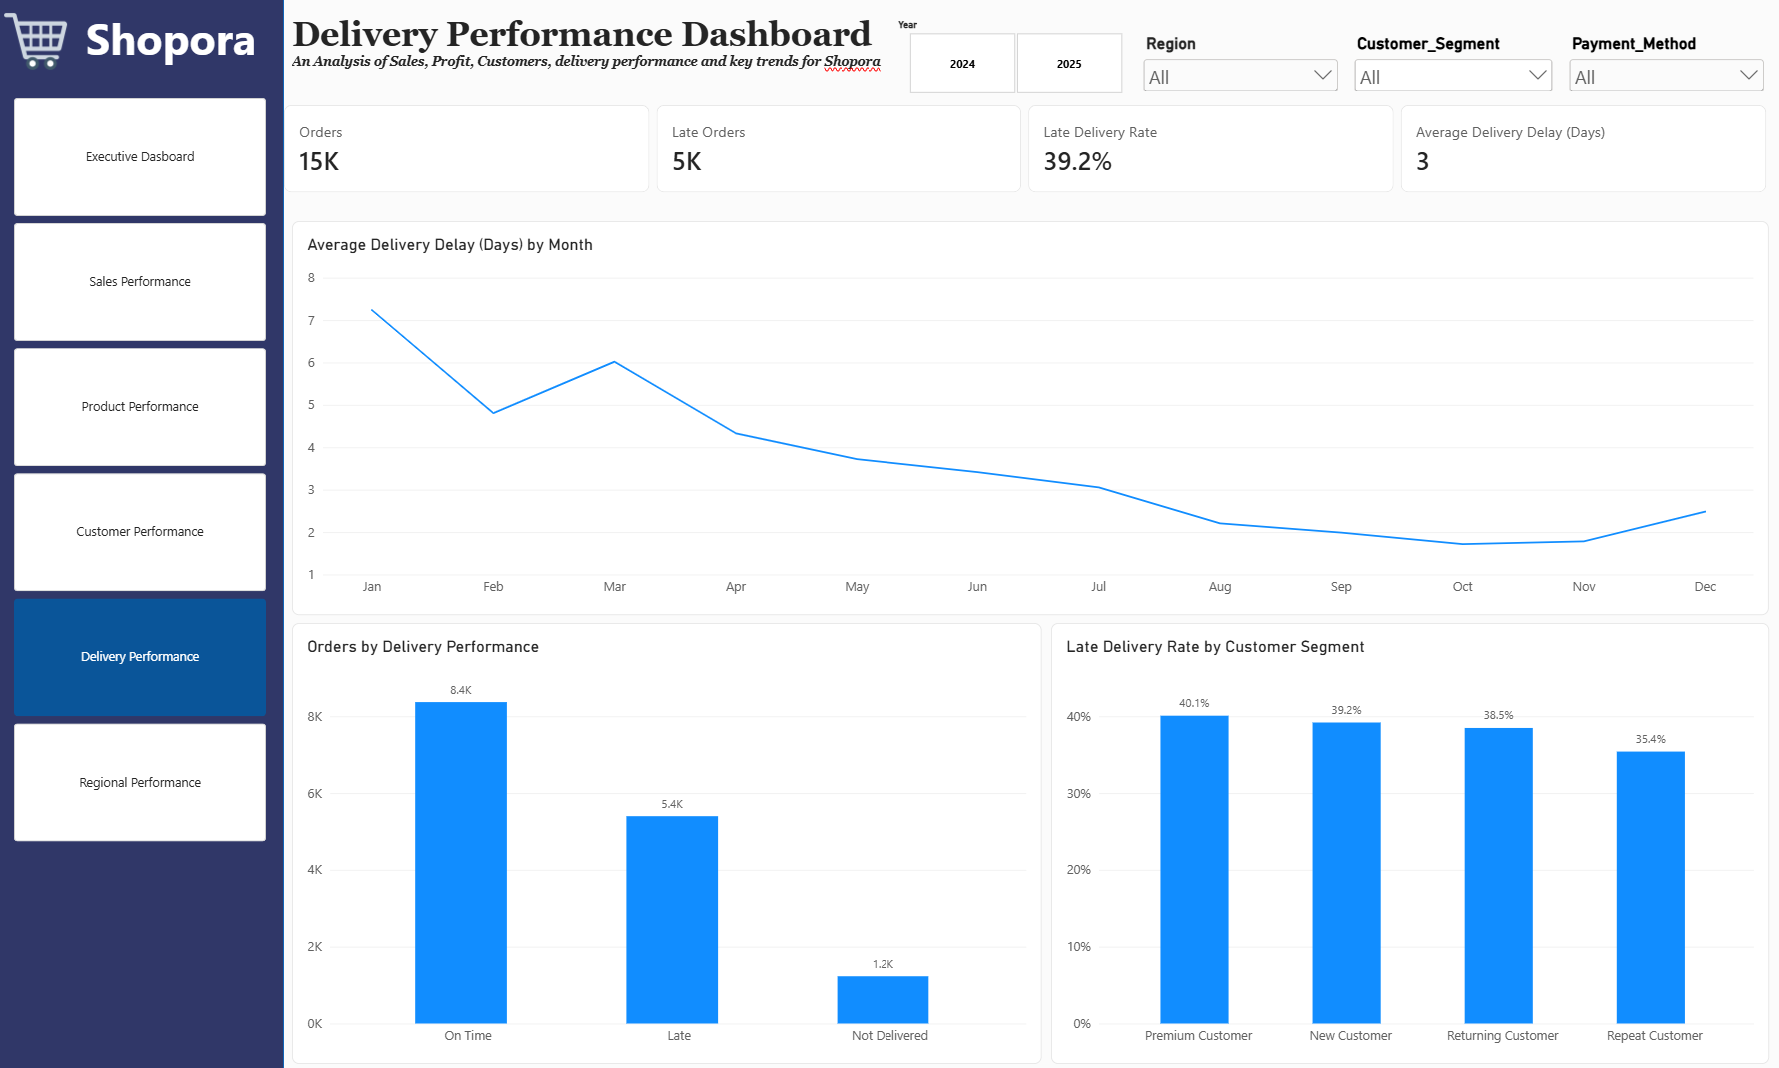

What the dashboard file says about the page in this screenshot:
{"tool":"powerbi","page":{"name":"Delivery Performance","canvas":[1990,1200],"ordinal":4},"visuals":[{"type":"textbox","box":[100,14.4,202.2,74.4],"z":0,"group":"g3"},{"type":"cardVisual","fields":{"Data":["Calculated Measures.Orders","Calculated Measures.Late Orders","Calculated Measures.Late Delivery Rate","Calculated Measures.Average Delivery Delay"]},"box":[320,122,1651,97],"z":0},{"type":"image","box":[0,16.6,88.9,70],"z":1000,"group":"g3"},{"type":"shape","box":[0,0,320,1200],"z":5000},{"type":"clusteredColumnChart","title":"Late Delivery Rate by Customer Segment","fields":{"Category":["Customers.Customer_Segment"],"Y":["Calculated Measures.Late Delivery Rate"]},"box":[1173.3,697.8,797.8,490],"z":6000},{"type":"clusteredColumnChart","title":"Orders by Delivery Performance","fields":{"Category":["Orders.Delivery Performance"],"Y":["Calculated Measures.Orders"]},"box":[328.9,697.8,834.4,490],"z":7000},{"type":"lineChart","title":"Average Delivery Delay (Days) by Month","fields":{"Category":["Orders.Month Name"],"Y":["Calculated Measures.Average Delivery Delay (Days)"]},"box":[328.9,251.1,1642.2,437.8],"z":8000},{"type":"group","id":"g1","title":"Group 2","box":[0,14.4,302.2,930],"z":8001},{"type":"group","id":"g2","title":"Group 3","box":[328.9,22.2,1641.1,92.2],"z":8002},{"type":"slicer","fields":{"Values":["Orders.Year"]},"box":[995.6,26.6,275.6,84.4],"z":10000,"group":"g2"},{"type":"slicer","fields":{"Values":["Customers.Region"]},"box":[1271.1,43.3,225.6,63.3],"z":11000,"group":"g2"},{"type":"slicer","fields":{"Values":["Customers.Customer_Segment"]},"box":[1505.6,43.3,230,63.3],"z":12000,"group":"g2"},{"type":"textbox","box":[328.9,22.2,666.7,92.2],"z":13000,"group":"g2"},{"type":"pageNavigator","box":[20,114.4,280,830],"z":15000,"group":"g1"},{"type":"group","id":"g3","title":"Group 1","box":[0,14.4,302.2,74.4],"z":16000,"group":"g1"},{"type":"slicer","fields":{"Values":["Orders.Payment_Method"]},"box":[1744.5,43.3,225.6,63.3],"z":16002,"group":"g2"}]}

Visuals, with their boxes on the page's 1990x1200 design canvas (x1, y1, x2, y2). These are canvas units, not pixel positions in the 1779x1068 screenshot, which may show the page scaled, cropped or inside an application window:
textbox: bbox=[100, 14, 302, 89]
cardVisual - Calculated Measures.Orders x Calculated Measures.Late Orders: bbox=[320, 122, 1971, 219]
image: bbox=[0, 17, 89, 87]
shape: bbox=[0, 0, 320, 1200]
"Late Delivery Rate by Customer Segment" clusteredColumnChart: bbox=[1173, 698, 1971, 1188]
"Orders by Delivery Performance" clusteredColumnChart: bbox=[329, 698, 1163, 1188]
"Average Delivery Delay (Days) by Month" lineChart: bbox=[329, 251, 1971, 689]
"Group 2" group: bbox=[0, 14, 302, 944]
"Group 3" group: bbox=[329, 22, 1970, 114]
slicer - Orders.Year: bbox=[996, 27, 1271, 111]
slicer - Customers.Region: bbox=[1271, 43, 1497, 107]
slicer - Customers.Customer_Segment: bbox=[1506, 43, 1736, 107]
textbox: bbox=[329, 22, 996, 114]
pageNavigator: bbox=[20, 114, 300, 944]
"Group 1" group: bbox=[0, 14, 302, 89]
slicer - Orders.Payment_Method: bbox=[1744, 43, 1970, 107]
